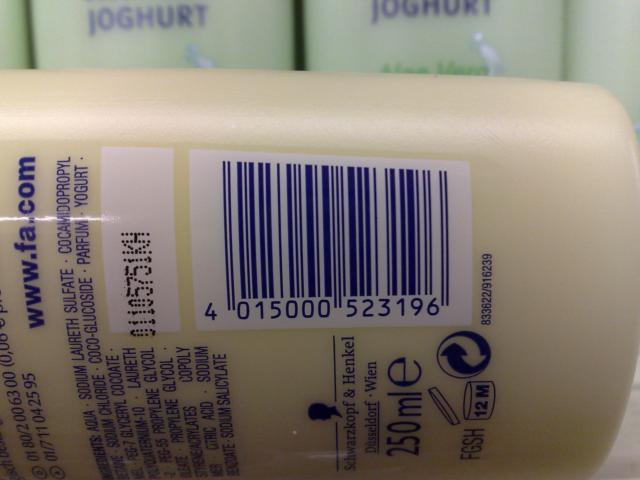Barcode: (188, 150, 473, 326)
